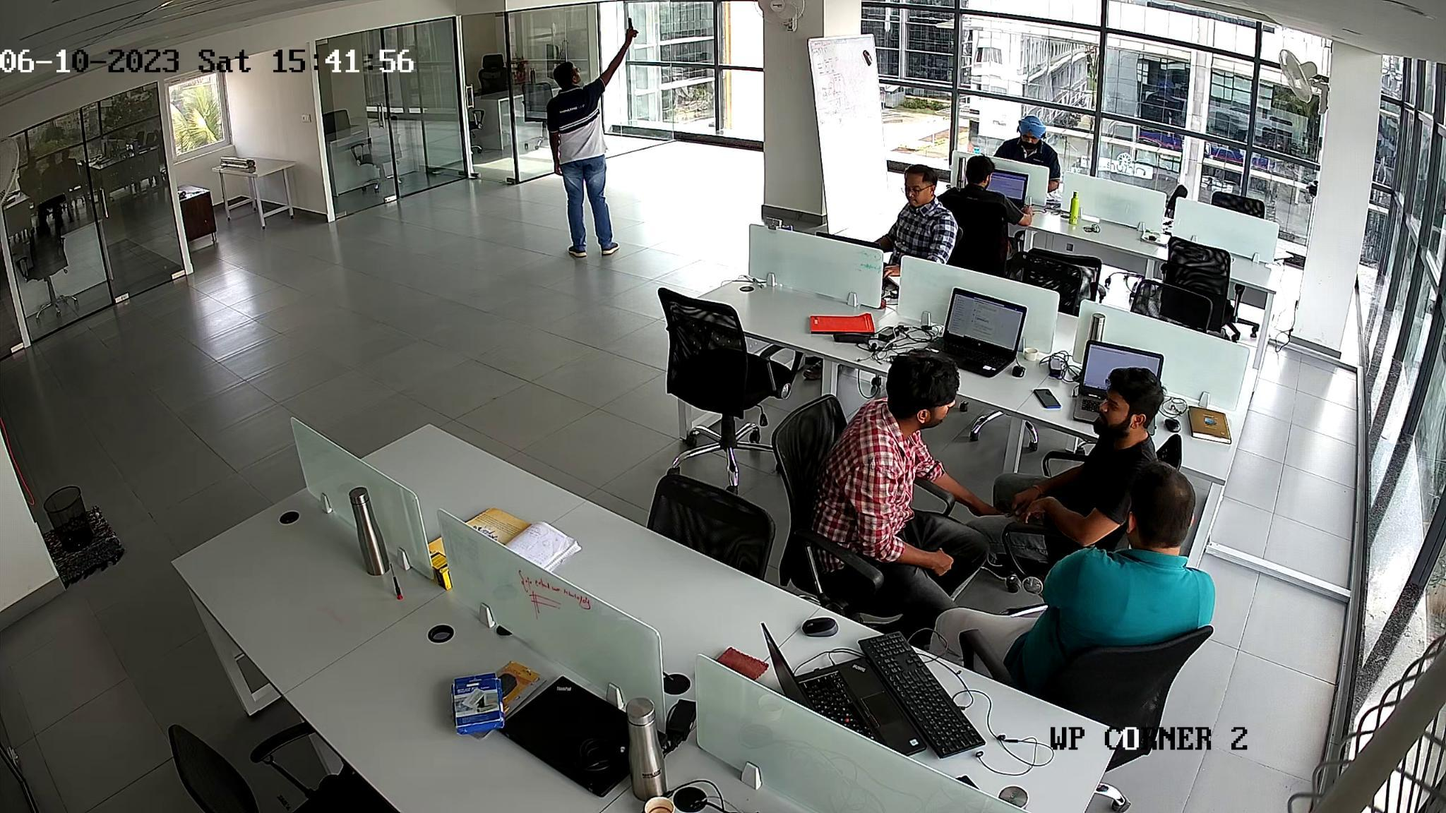gun: (628, 17, 638, 36)
